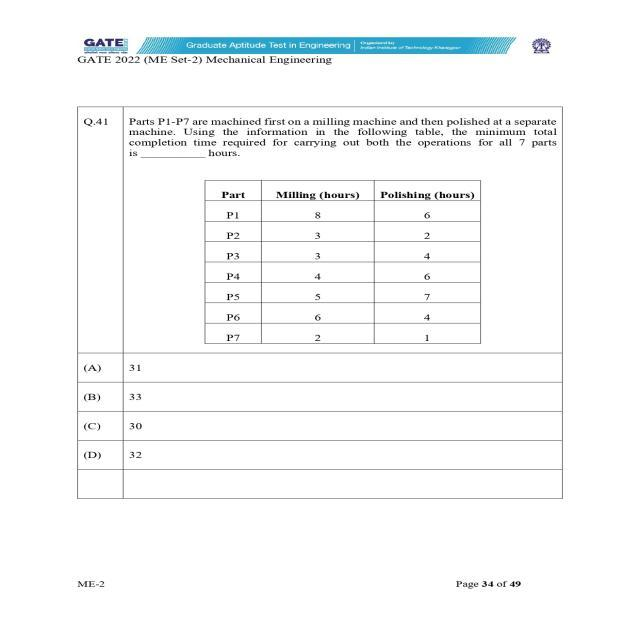Answer_Block: (51, 356, 606, 482)
Question_Answer_Block: (51, 90, 606, 526)
Question_Block: (51, 90, 606, 353)
Question_Paper_Area: (51, 90, 606, 548)
